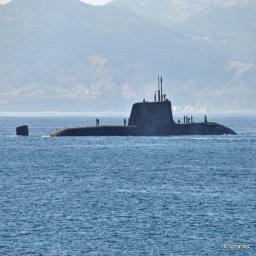submarine: (14, 76, 239, 137)
